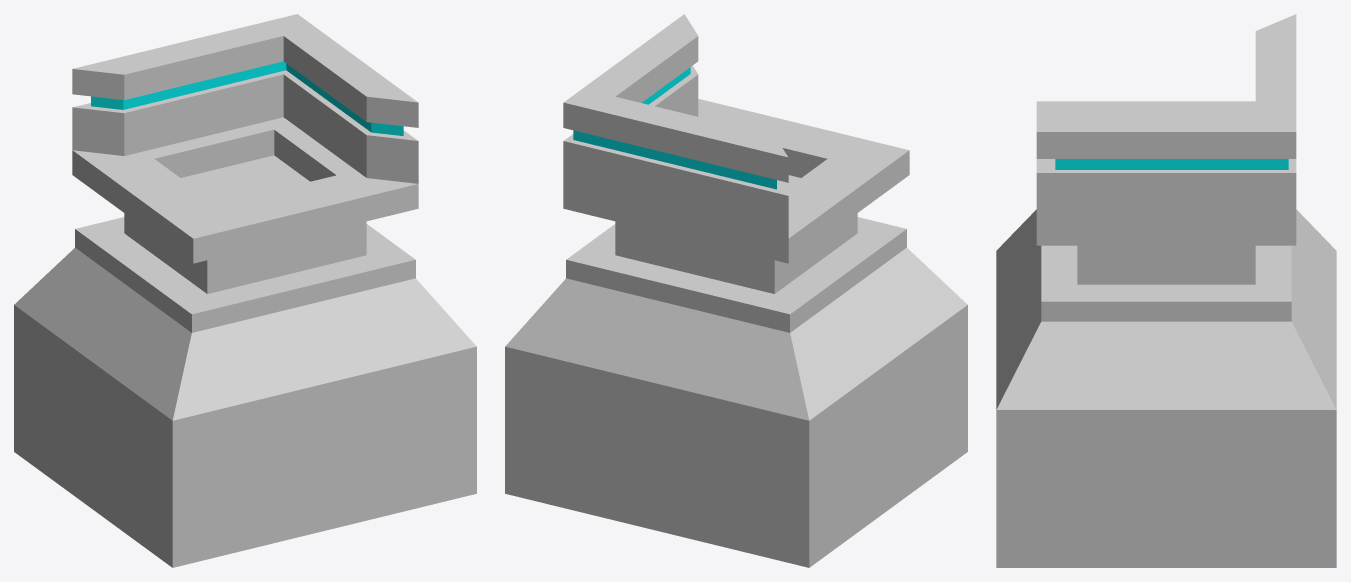
File: House_7.fbx
3 views of the same model, side by side, from view 1: azimuth 30°, elevation 25°; view 2: azimuth 150°, elevation 25°; view 3: azimuth 270°, elevation 25° (orthographic). The views are drawn at different scales.
Parts seen in each view (by area): view 1: House_7; view 2: House_7; view 3: House_7.
Boxes of the visible parts, x1,y1,x2,y2 form: House_7: [14, 14, 476, 567]; House_7: [505, 14, 967, 567]; House_7: [996, 14, 1336, 567].
Size of the model in its own units: 3.4 by 4.14 by 3.07.
